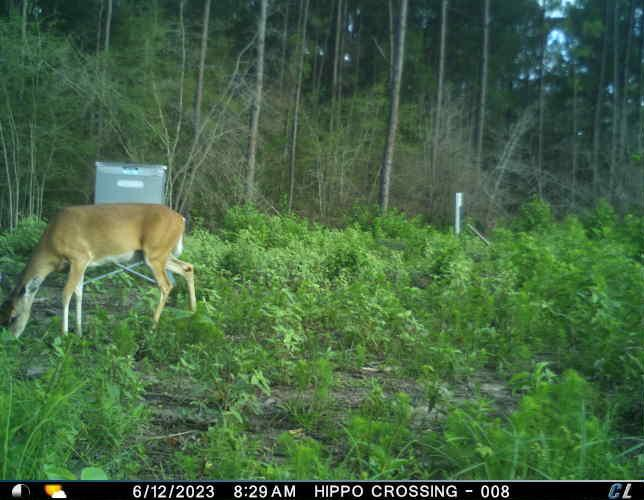Deer: (0, 199, 201, 342)
